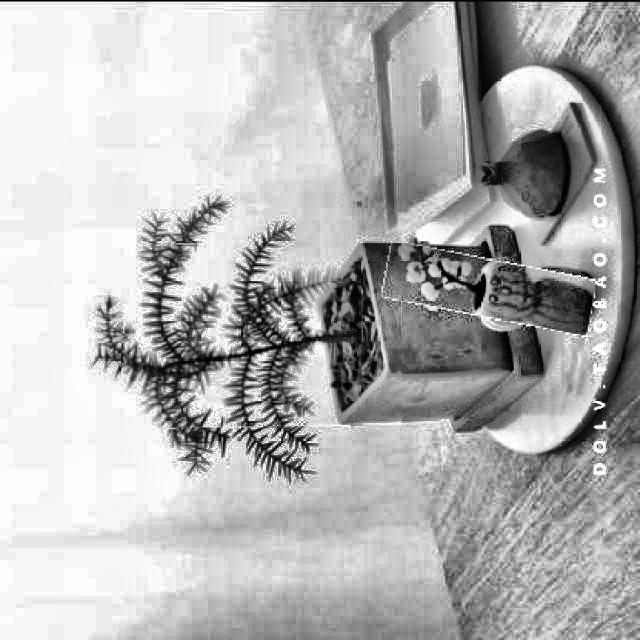plants: (124, 240, 402, 426), (382, 248, 596, 326)
